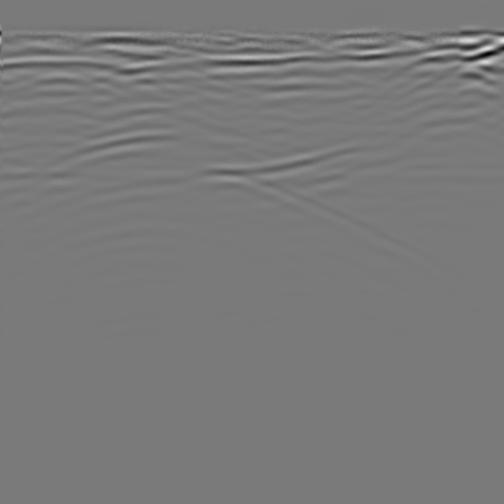hyperbola: (27, 115, 301, 221)
